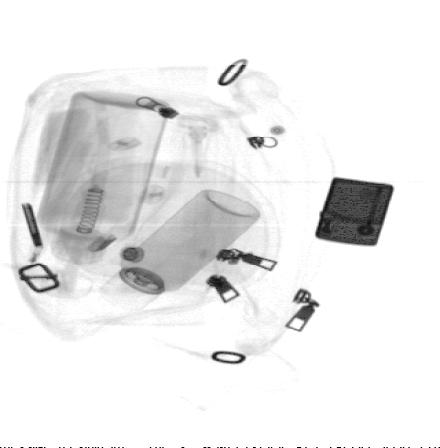Lighter: (315, 177, 393, 248)
Sprayer: (98, 188, 262, 314)
